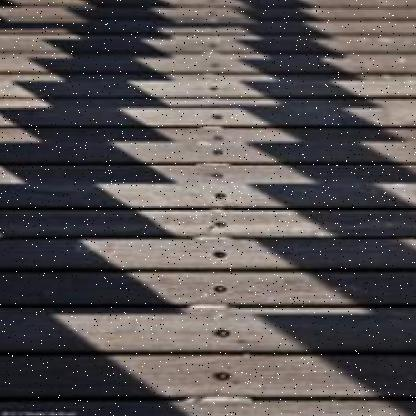stair_up: (6, 195, 406, 406)
